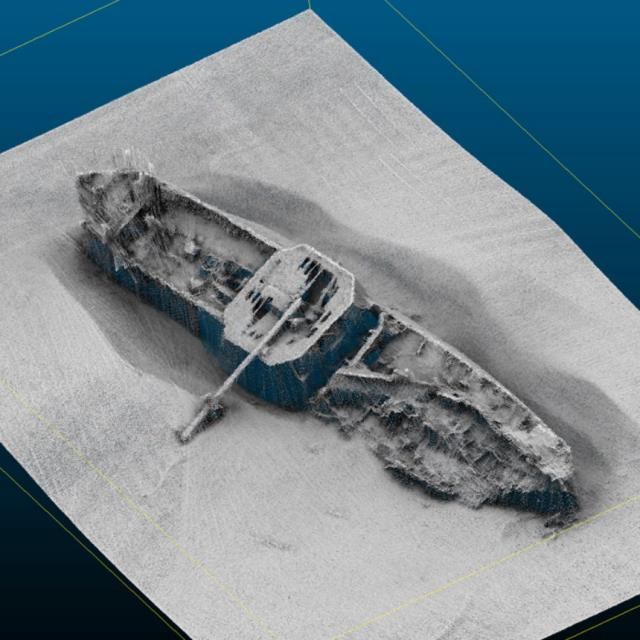ship: (60, 162, 587, 546)
